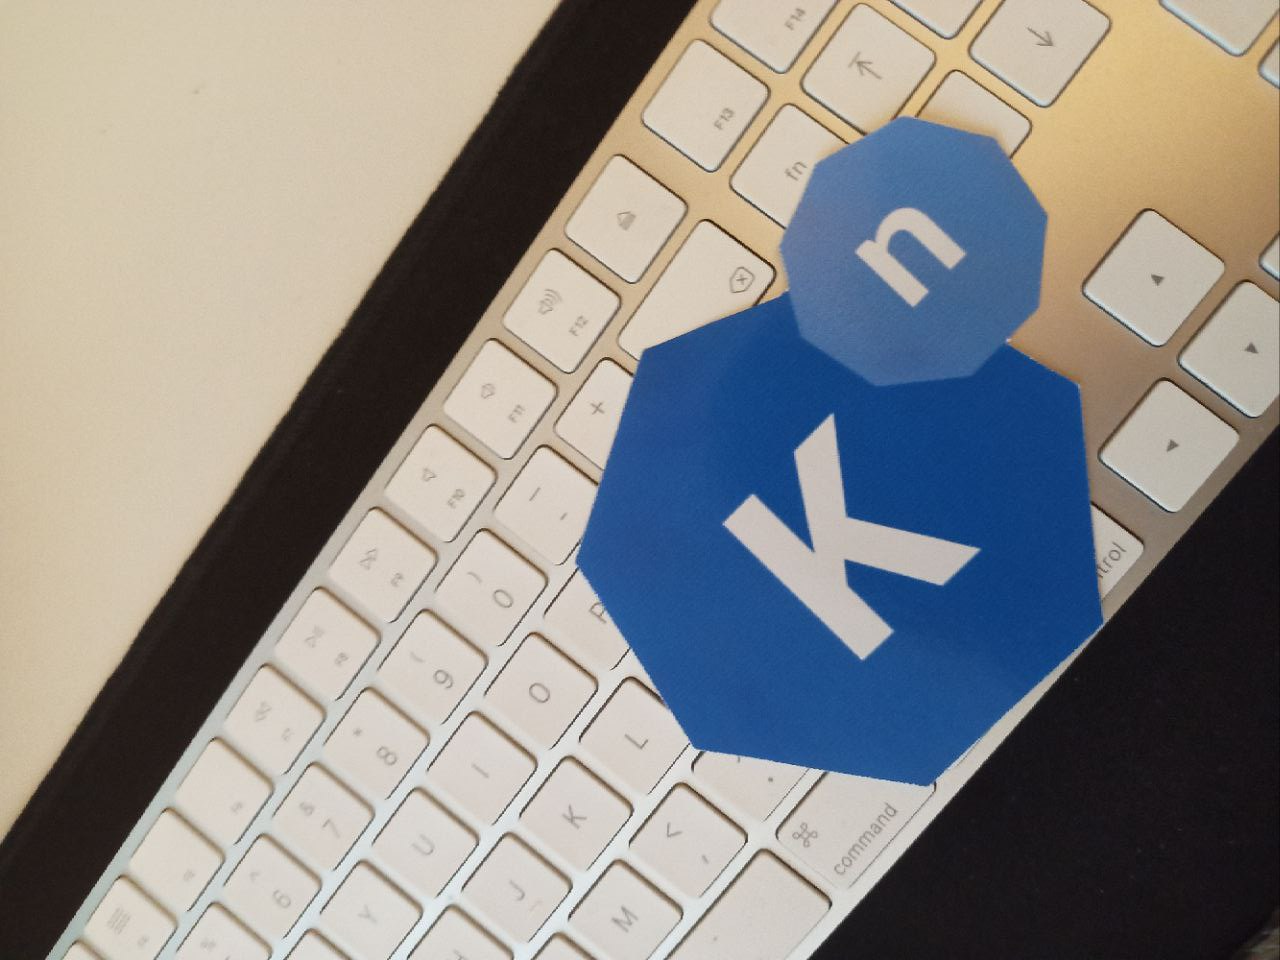knative: (577, 117, 1105, 784)
